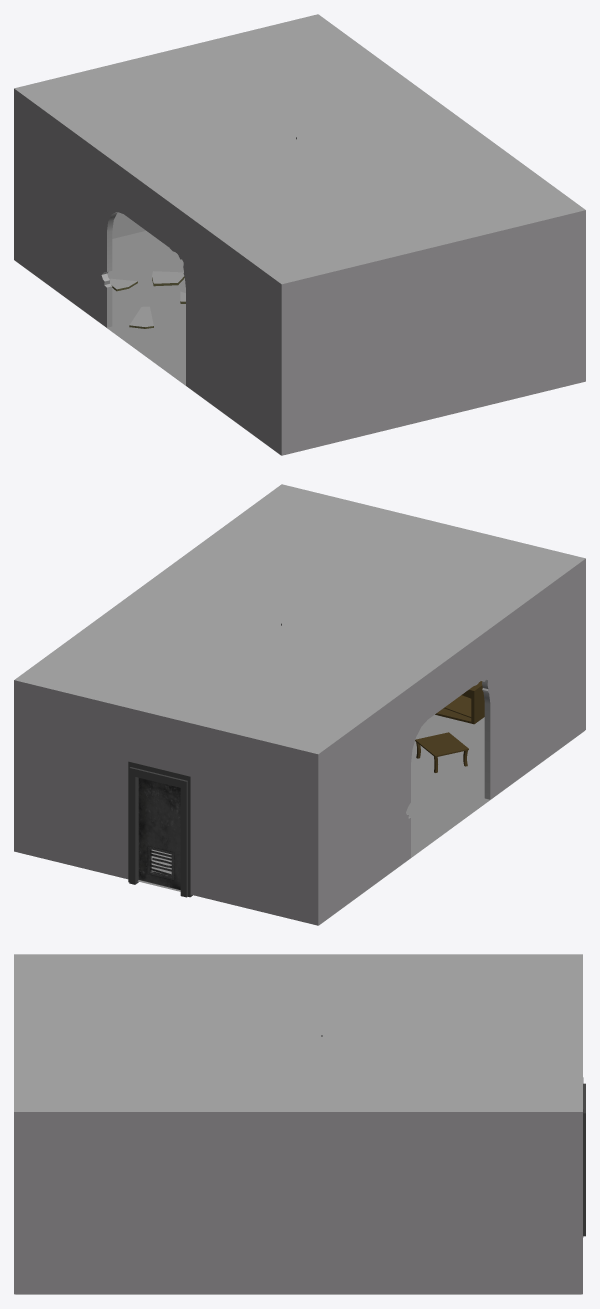
Rendered from Pièce_salon.fbx.
The picture shows the model from 3 angles, top to bottom: view 1: azimuth 30°, elevation 25°; view 2: azimuth 150°, elevation 25°; view 3: azimuth 270°, elevation 25°; orthographic projection. The views are drawn at different scales.
Visible parts, largest first — view 1: Salon, Plane; view 2: Salon, Plane, 9.001, porte_cadre.001, Cube, Cube.010; view 3: Salon, Plane, porte_cadre.001.
Boxes of the visible parts, x1,y1,x2,y2 form: Salon: [14, 14, 585, 455]; Plane: [14, 231, 279, 454]; Salon: [14, 484, 585, 925]; Plane: [137, 714, 583, 924]; 9.001: [138, 778, 180, 889]; porte_cadre.001: [128, 761, 192, 897]; Cube: [435, 681, 484, 724]; Cube.010: [415, 732, 468, 757]; Salon: [14, 954, 582, 1294]; Plane: [15, 1294, 581, 1294]; porte_cadre.001: [583, 1077, 585, 1237].
Bounding box in the file's own units: 651 × 361 × 996.
